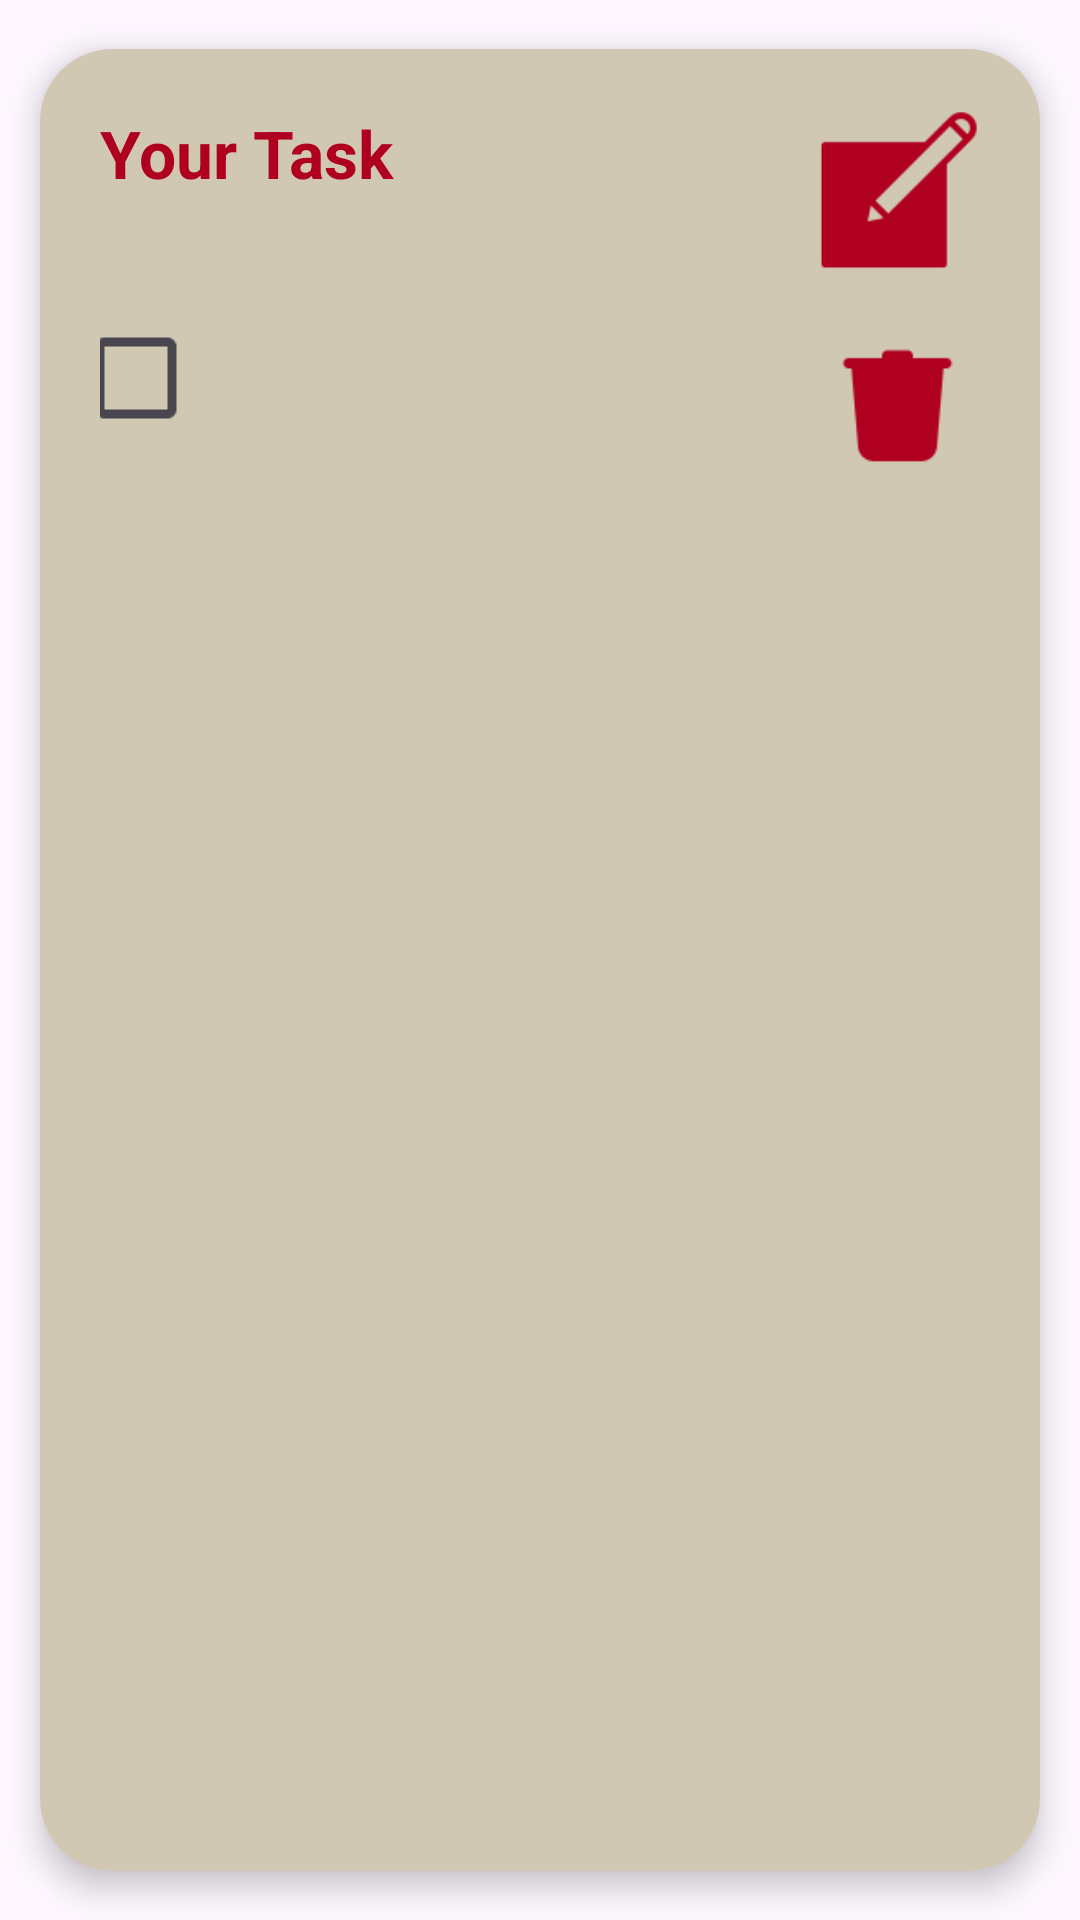

Point at icon controls on the screen. Image size 1080px x 1920px, points as [x,y].
delete: [897,405]
edit: [899,190]
